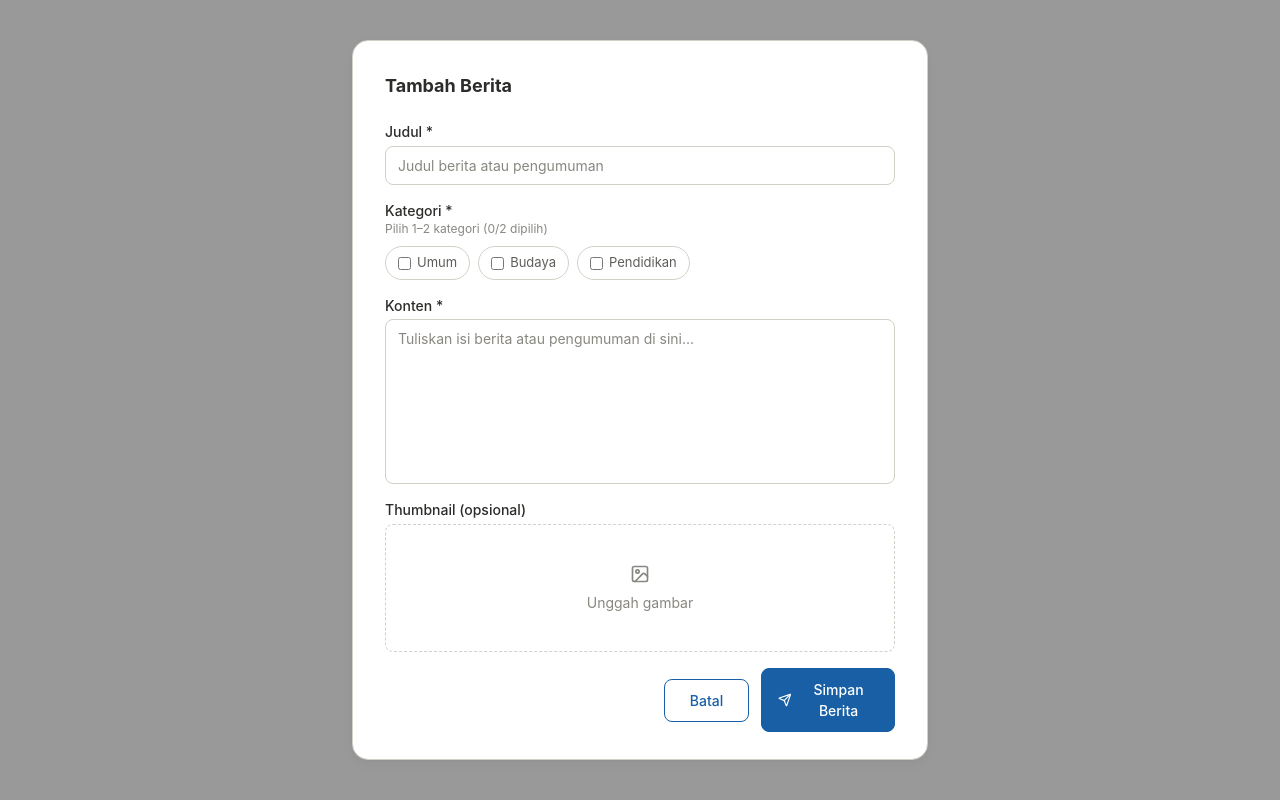
Test case: BeritaFormModal kategori › blocks submit until at least one category is chosen
In the field labelled "Judul *": [640, 165] box left=385, top=146, right=895, bottom=185, type "Judul"
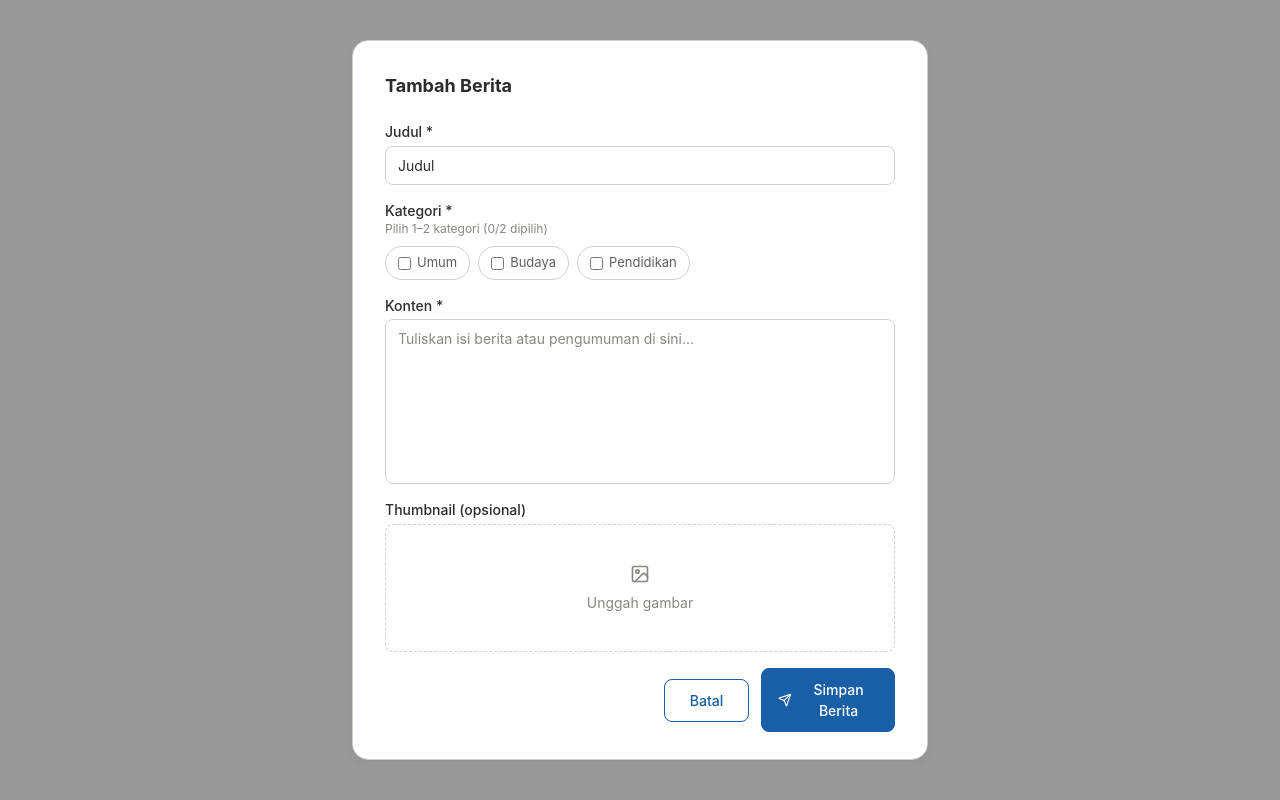
In the text box labelled "Konten *": [640, 402] box left=385, top=320, right=895, bottom=484, type "Isi berita"
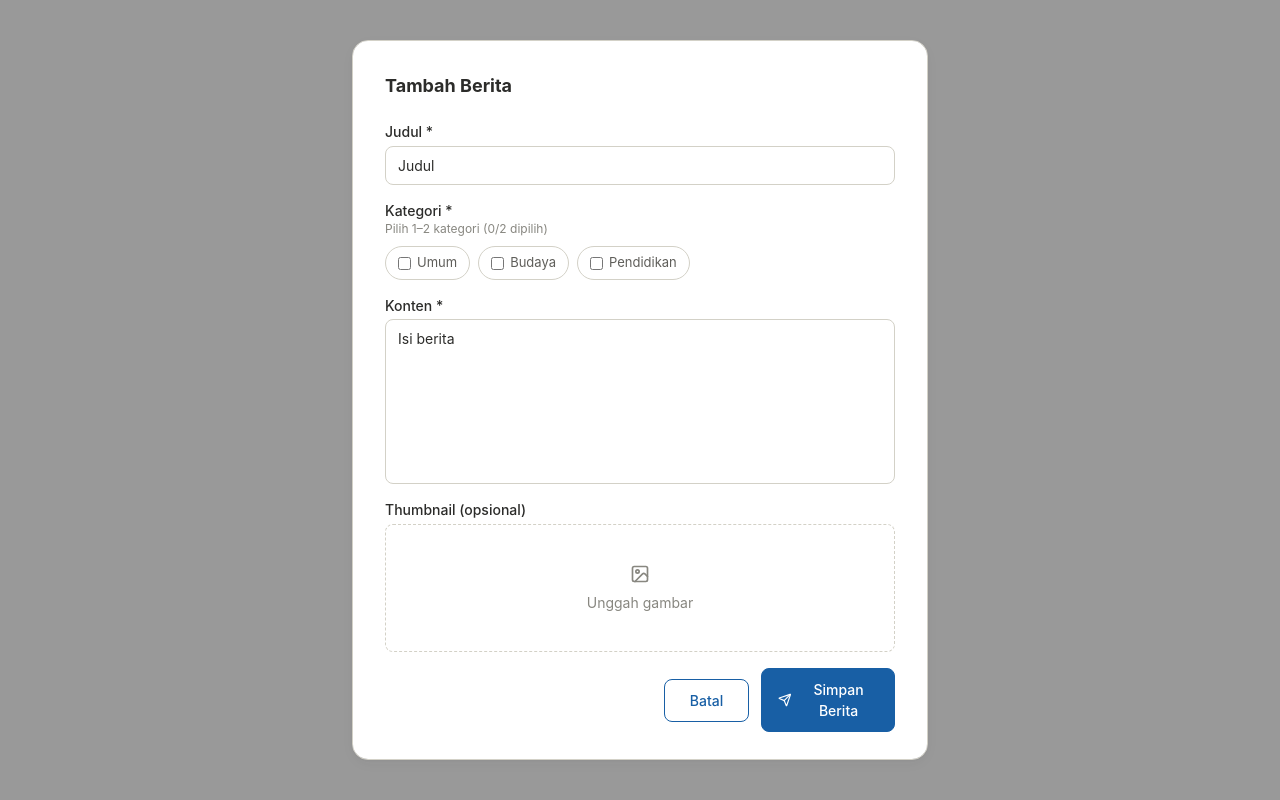
Click the button "Simpan Berita": [828, 700] box left=761, top=668, right=895, bottom=732
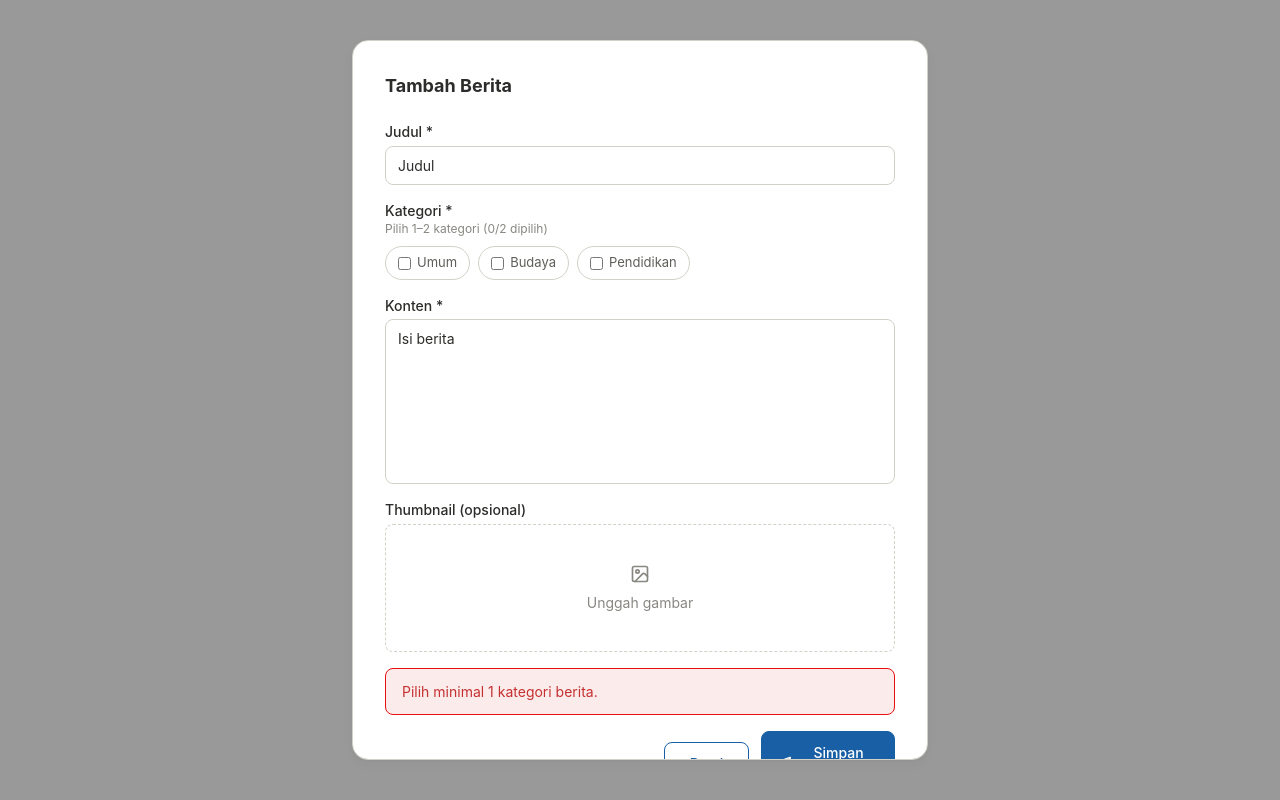
Expected: the message reads "Pilih minimal 1 kategori berita.", left=402, top=683, right=598, bottom=700
